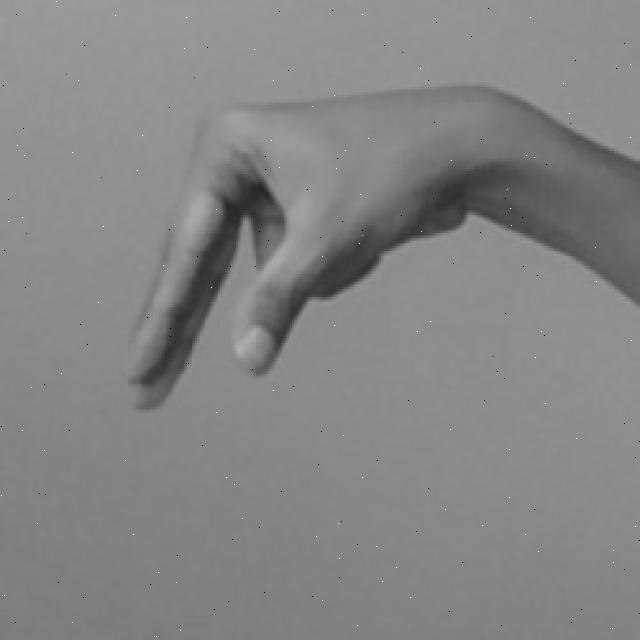Q: (120, 74, 640, 424)
